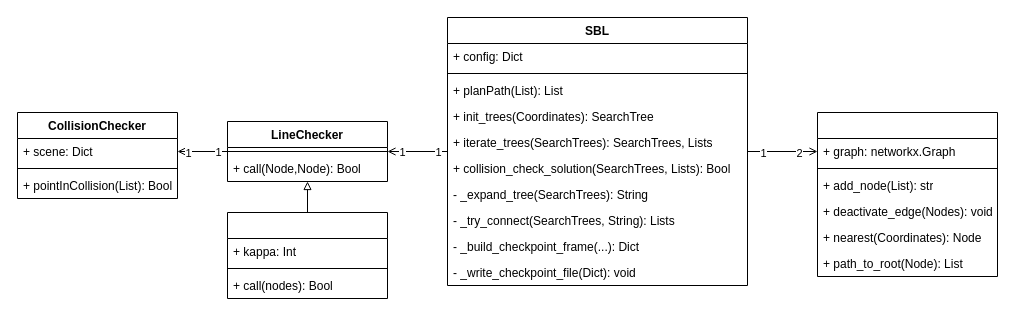
Image size: 1015x319. Some labels were removed from this diagram. The shapes that lost their labels are listed below. From the top down, each one's box as (x1, y1, x2, y2) in pixels, then its label:
(816, 112, 998, 276): SearchTree
(226, 212, 388, 298): AdaptiveLineChecker
